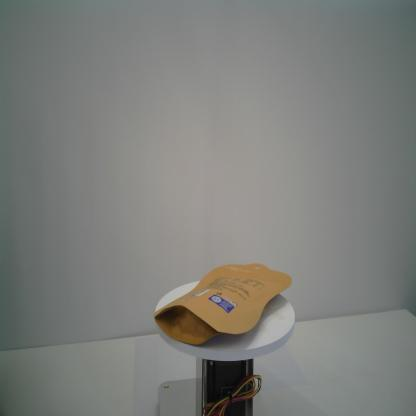Dried Fruit: (153, 263, 293, 346)
